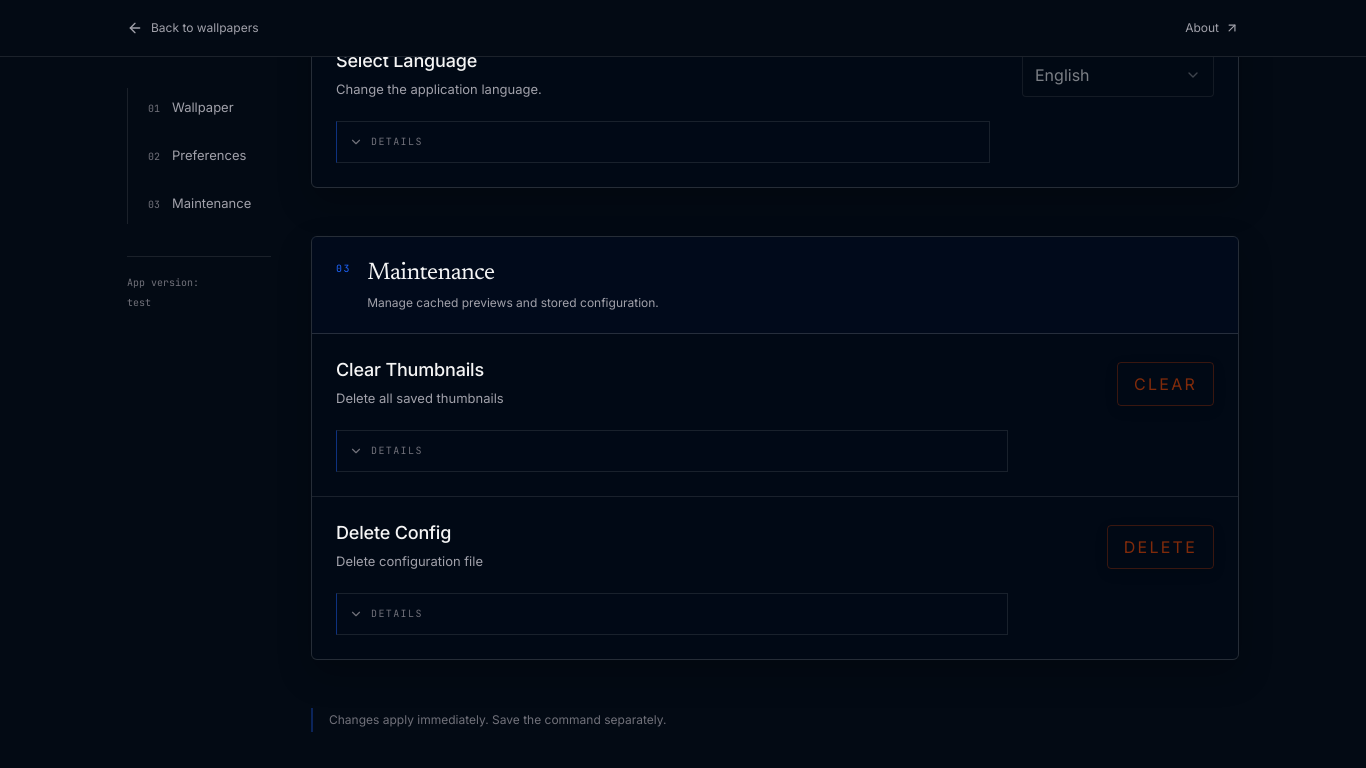
Settings page › disables all mutation controls during installation reservation and restores them on release
(page scrolled)
Expected: the button named "Select Language" is disabled, [1022, 53, 1214, 97]
Expected: the button "DELETE" is disabled, [1107, 525, 1214, 569]
What coordinates should you click on to do the following:
click the button "CLEAR"
I would click on:
 (1166, 384)
Its box is [1117, 362, 1214, 406].
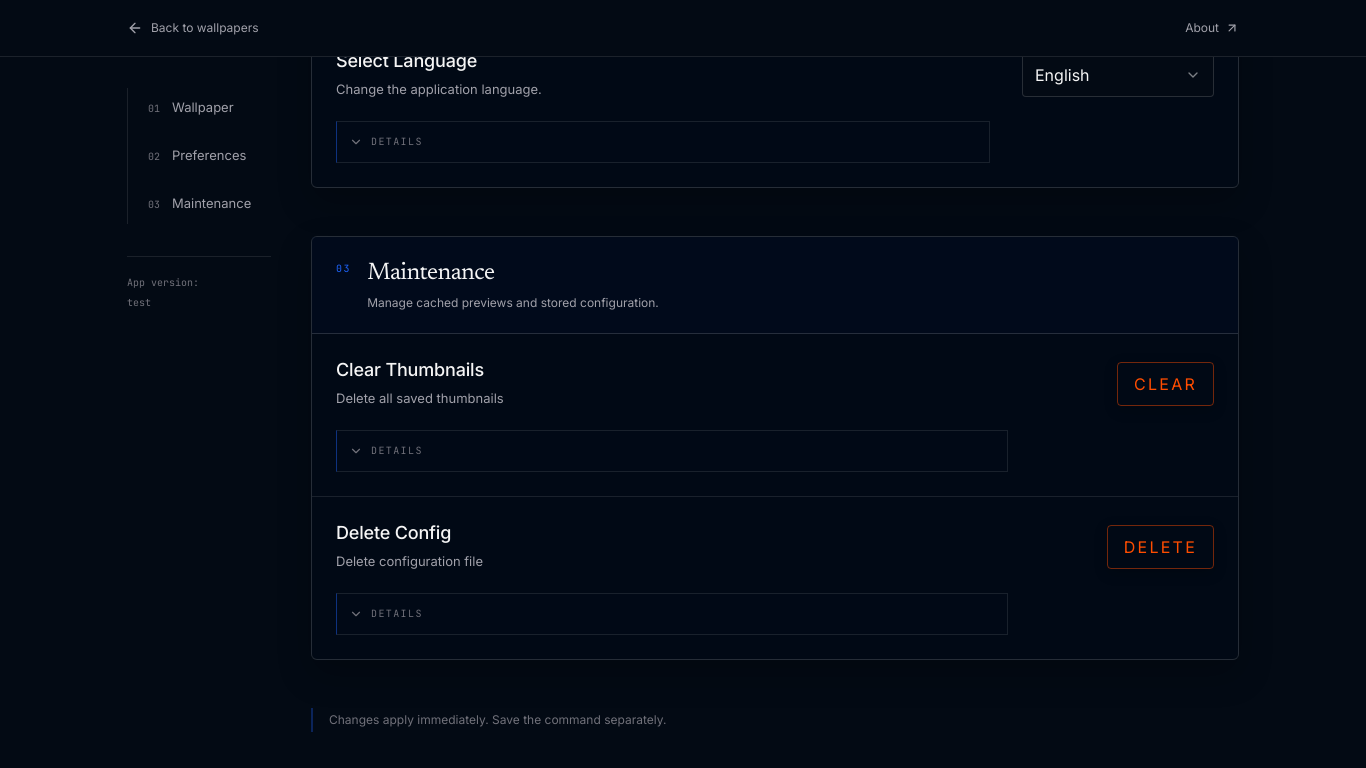
Now the button "CLEAR" is enabled, box [1117, 362, 1214, 406]
